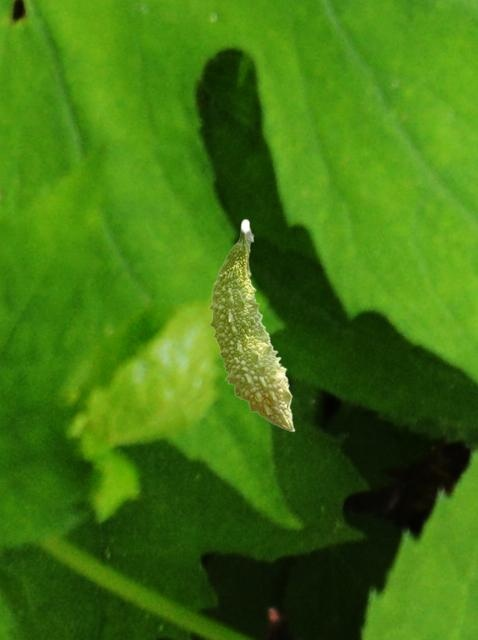ampalaya: (207, 218, 297, 434)
